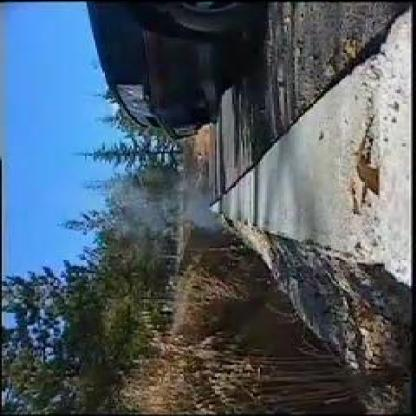-: (158, 200, 224, 228)
